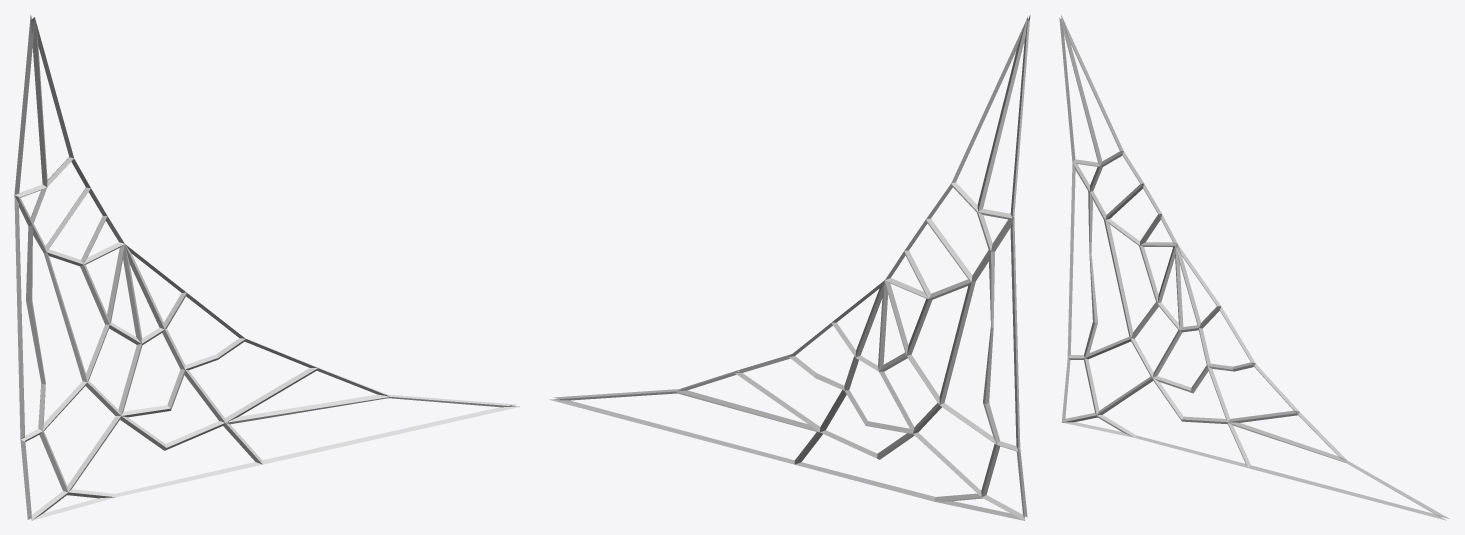
The model's file is HWN20_Spider_Net_01.glb.
The picture shows the model from 3 angles, left to right: view 1: azimuth 30°, elevation 25°; view 2: azimuth 150°, elevation 25°; view 3: azimuth 330°, elevation 25°; orthographic projection. The views are drawn at different scales.
Visible parts, largest first — view 1: HWN20_Spider_Net_01; view 2: HWN20_Spider_Net_01; view 3: HWN20_Spider_Net_01.
Boxes of the visible parts, x1,y1,x2,y2 form: HWN20_Spider_Net_01: [14, 14, 519, 520]; HWN20_Spider_Net_01: [550, 15, 1030, 520]; HWN20_Spider_Net_01: [1059, 15, 1449, 520].
Bounding box in the file's own units: 0.5013 × 0.5011 × 0.057.
1 material, 1 textured.
